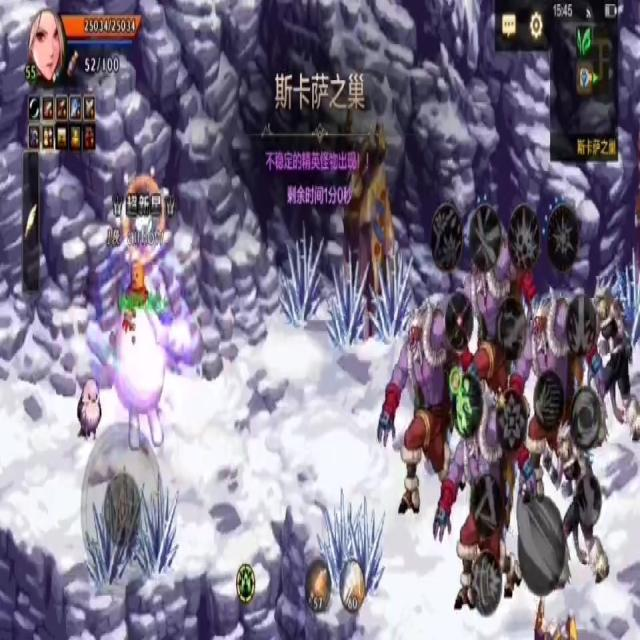player: (115, 262, 170, 452)
